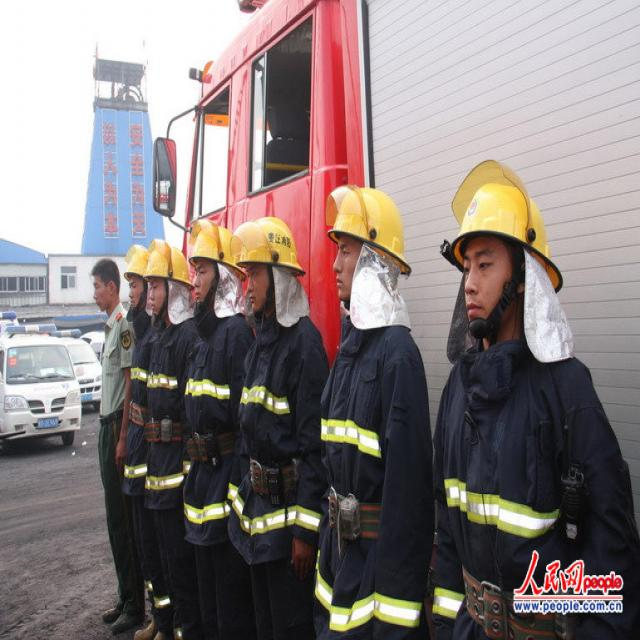Reflective-Jacket: (312, 326, 430, 628), (238, 320, 322, 538), (184, 313, 234, 512), (146, 326, 180, 492)
Safety-Helmet: (446, 161, 564, 287), (326, 181, 414, 271), (235, 212, 308, 280), (186, 217, 244, 272), (145, 236, 195, 287), (123, 240, 149, 280), (87, 253, 122, 281)
